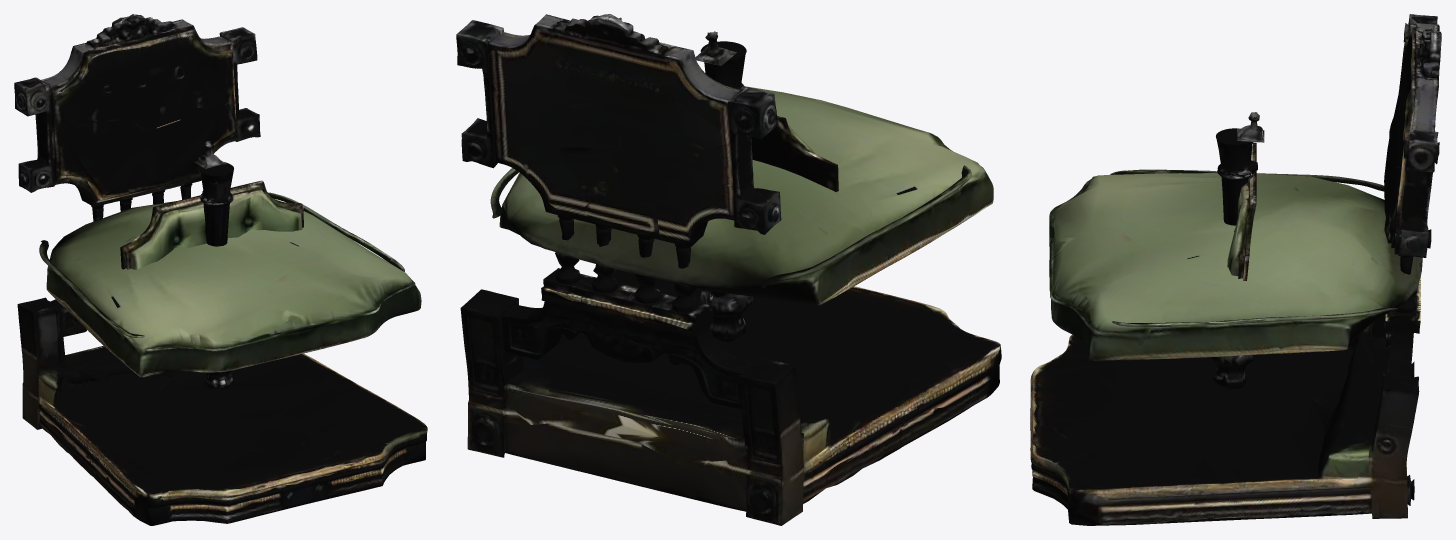
3 views of the same model, side by side, from view 1: azimuth 30°, elevation 25°; view 2: azimuth 150°, elevation 25°; view 3: azimuth 270°, elevation 25° (orthographic). The views are drawn at different scales.
Visible parts, largest first — view 1: root.0.0, root.1, root.2, root.0.3, root.6, root.4, root.0.2; view 2: root.0.0, root.1, root.2, root.0.3, root.0.2, root.6; view 3: root.0.0, root.1, root.0.3, root.2, root.4, root.0.1, root.6, root.0.2.
Part boxes in pixels (<box>): root.0.0: <box>14,14,427,525</box>; root.1: <box>46,201,421,377</box>; root.2: <box>120,180,303,269</box>; root.0.3: <box>39,192,404,337</box>; root.6: <box>199,162,233,244</box>; root.4: <box>200,162,233,244</box>; root.0.2: <box>194,141,229,388</box>; root.0.0: <box>456,14,1001,525</box>; root.1: <box>499,86,993,305</box>; root.2: <box>751,116,838,192</box>; root.0.3: <box>490,165,971,287</box>; root.0.2: <box>700,32,753,342</box>; root.6: <box>701,41,746,296</box>; root.0.0: <box>1030,14,1441,525</box>; root.1: <box>1049,173,1422,360</box>; root.0.3: <box>1110,169,1397,327</box>; root.2: <box>1227,142,1256,280</box>; root.4: <box>1216,128,1253,222</box>; root.0.1: <box>1212,112,1264,388</box>; root.6: <box>1216,128,1254,225</box>; root.0.2: <box>1210,112,1264,386</box>.
Bounding box in the file's own units: 16089 × 20334 × 17556.
1 material, 1 textured.
